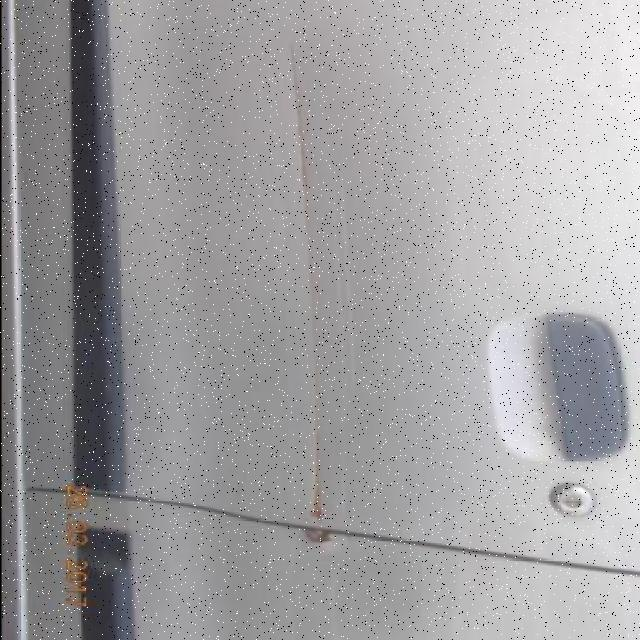damage: (278, 43, 330, 521), (292, 524, 339, 547)
